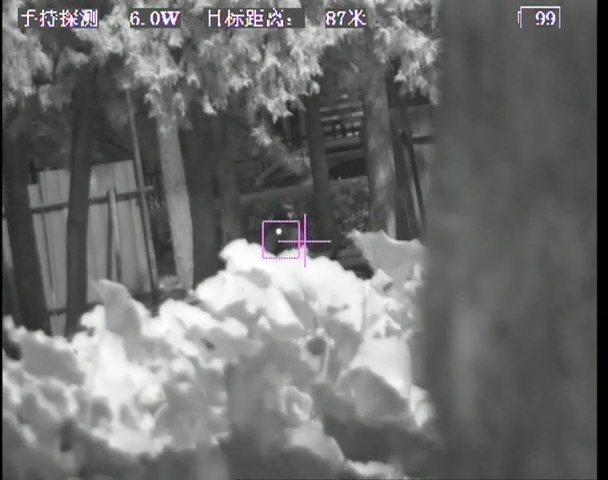my: (273, 226, 285, 236)
